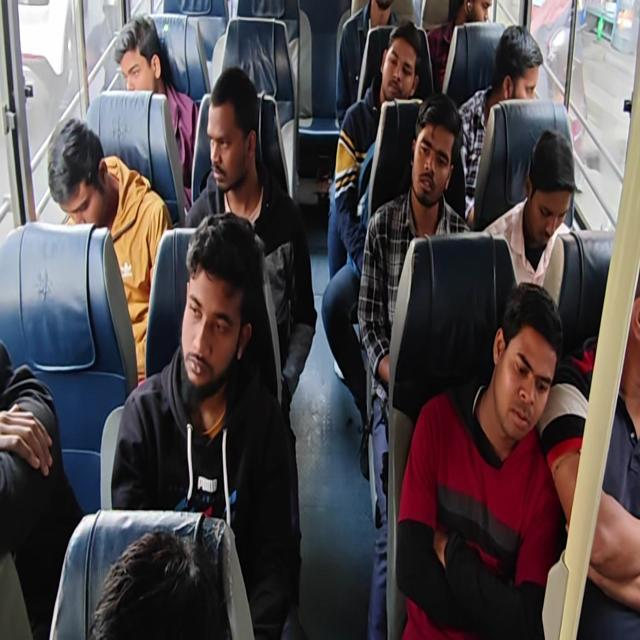person: (180, 207, 262, 405), (86, 515, 213, 640), (495, 280, 562, 448), (44, 110, 118, 243), (518, 124, 590, 236), (204, 65, 261, 201), (410, 91, 467, 205), (496, 24, 547, 130), (111, 13, 165, 102), (378, 20, 419, 106), (622, 244, 640, 366), (451, 0, 500, 25), (371, 0, 402, 19)
